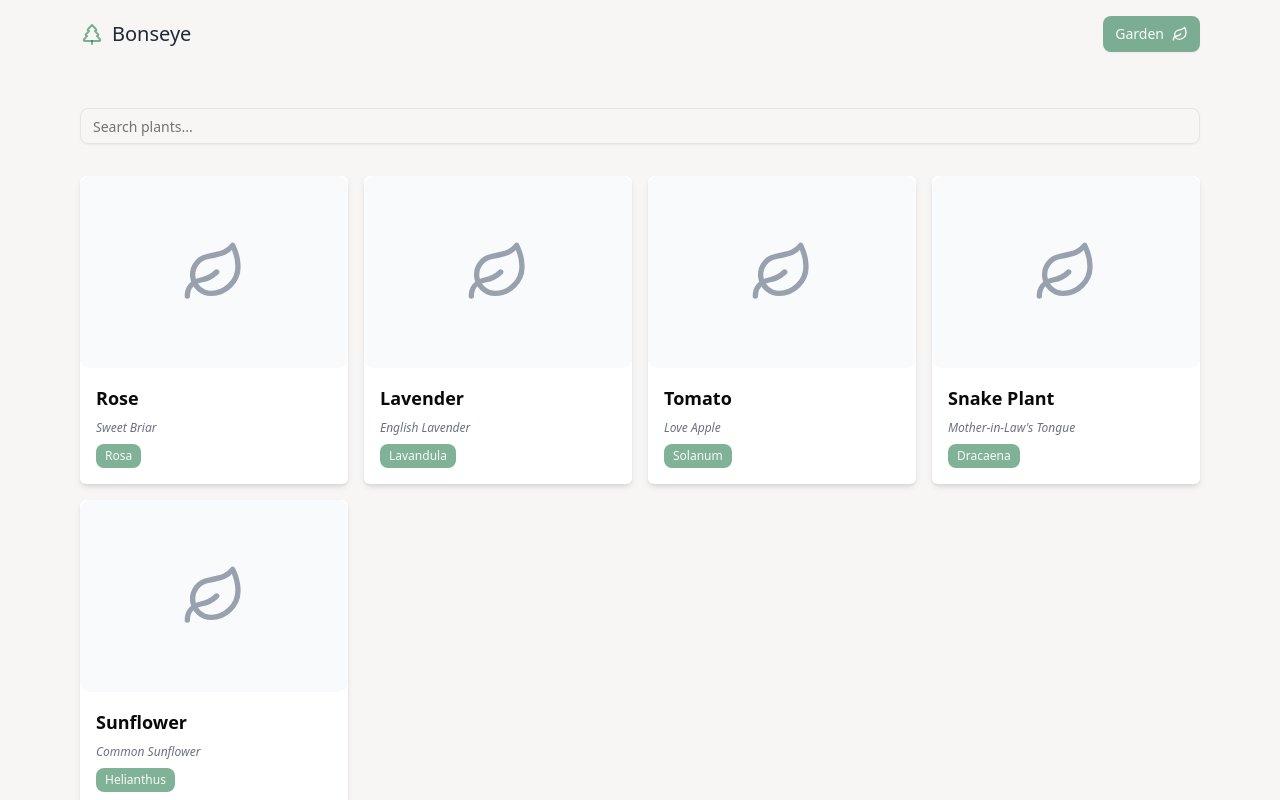
Garden Page › adds a plant to garden and shows it with correct count
This screenshot has width=1280, height=800.
Click the element with test id "plant-card" showing "Rose Sweet Briar Rosa": x=214, y=330 [80,176,348,484]
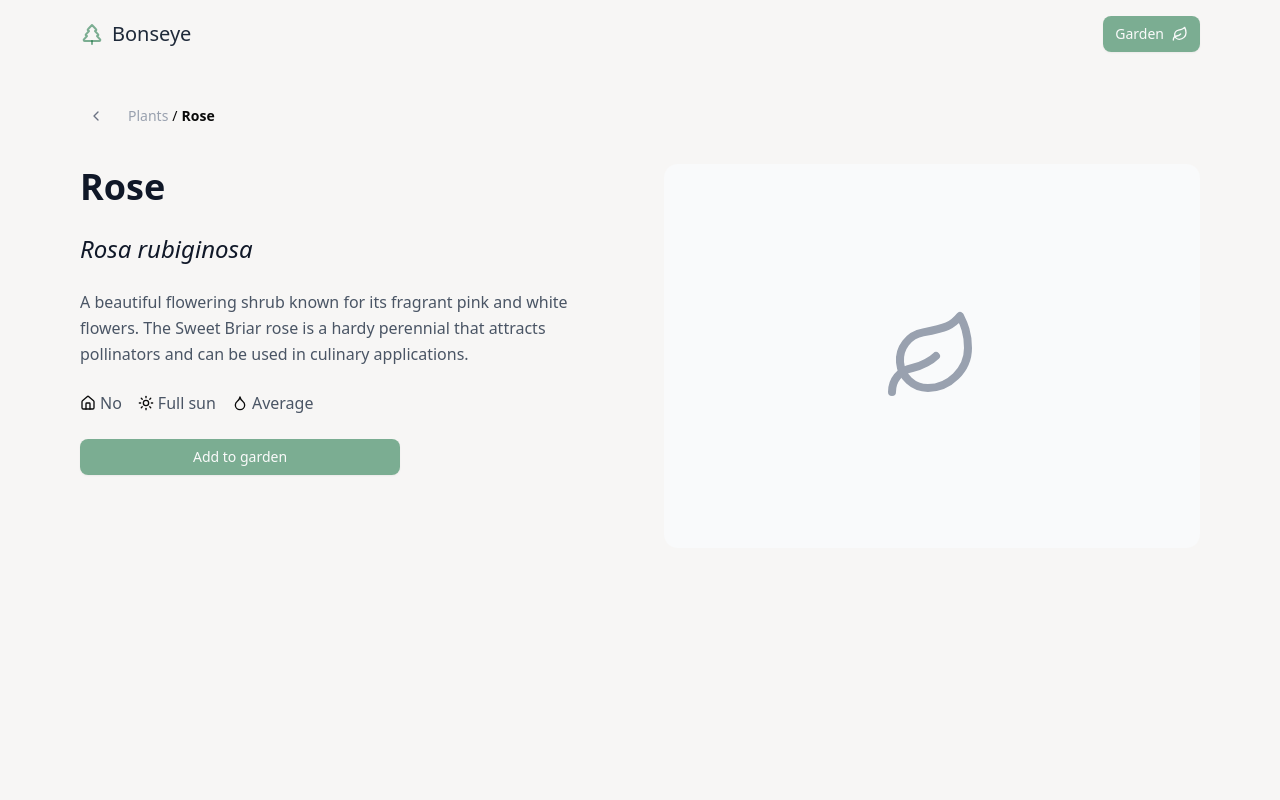
Click the button with test id "button-toggle-garden": x=240, y=457 [80,439,400,475]
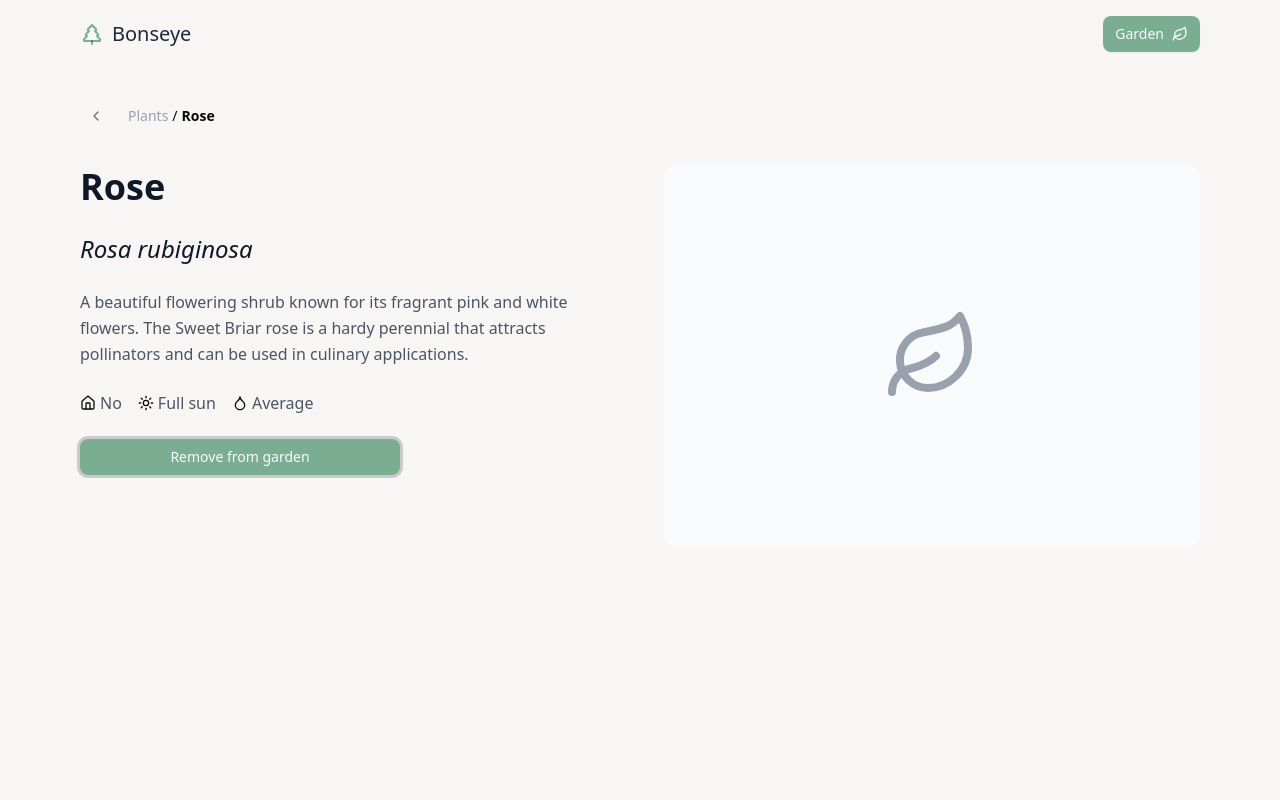
Click the link with test id "link-garden": x=1152, y=34 [1103,16,1200,52]
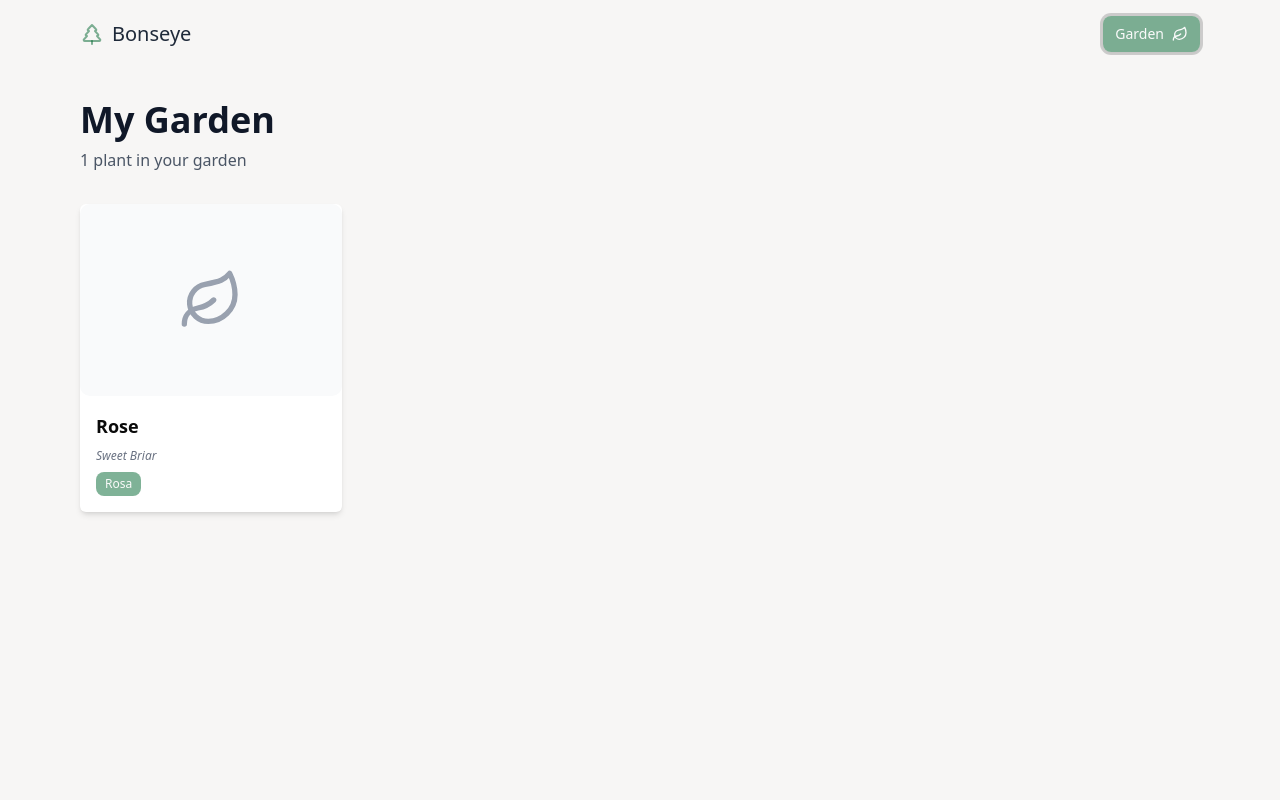
Expected: the number of elements with test id "garden-item" is 1, [80,204,342,512]
Expected: the text with test id "garden-count" shows "1 plant", [80,149,247,171]
